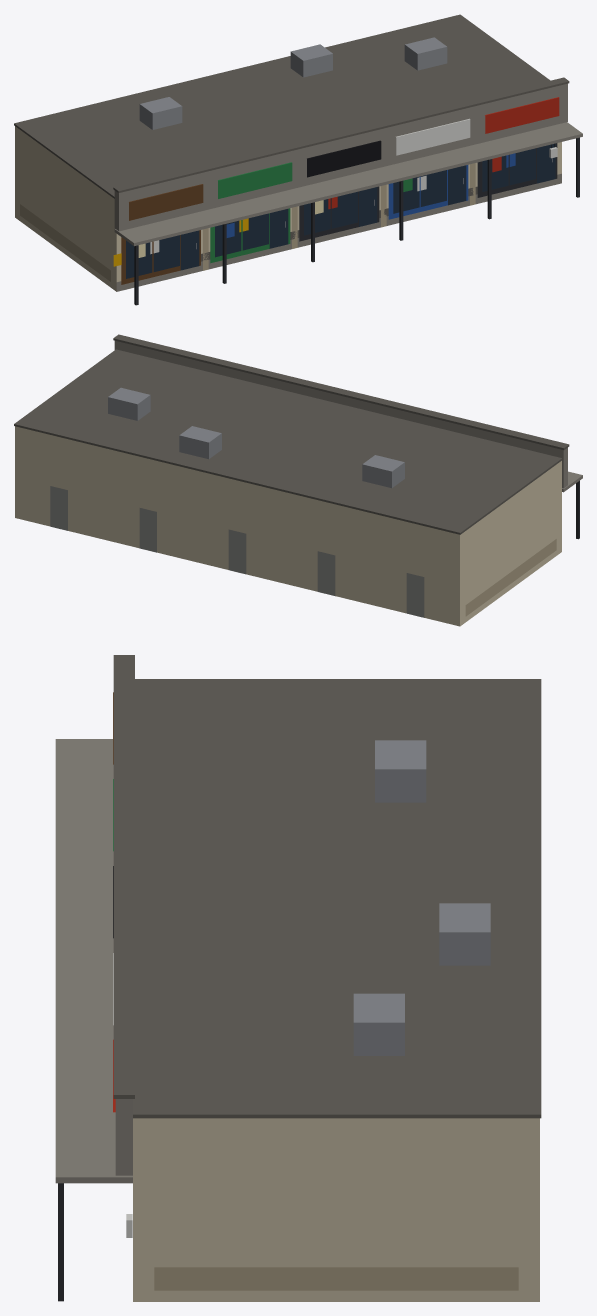
File: building_strip-mall.3e88b9d99a9c.glb
3 views of the same model, one above another, from view 1: azimuth 30°, elevation 25°; view 2: azimuth 150°, elevation 25°; view 3: azimuth 270°, elevation 25° (orthographic). The views are drawn at different scales.
Visible parts, largest first — view 1: body; view 2: body; view 3: body.
Part boxes in pixels (x1,y1,x2,y2): body: [14, 14, 582, 305]; body: [14, 334, 582, 626]; body: [55, 655, 541, 1301].
Bounding box in the file's own units: 24.31 × 5.7 × 11.33.
